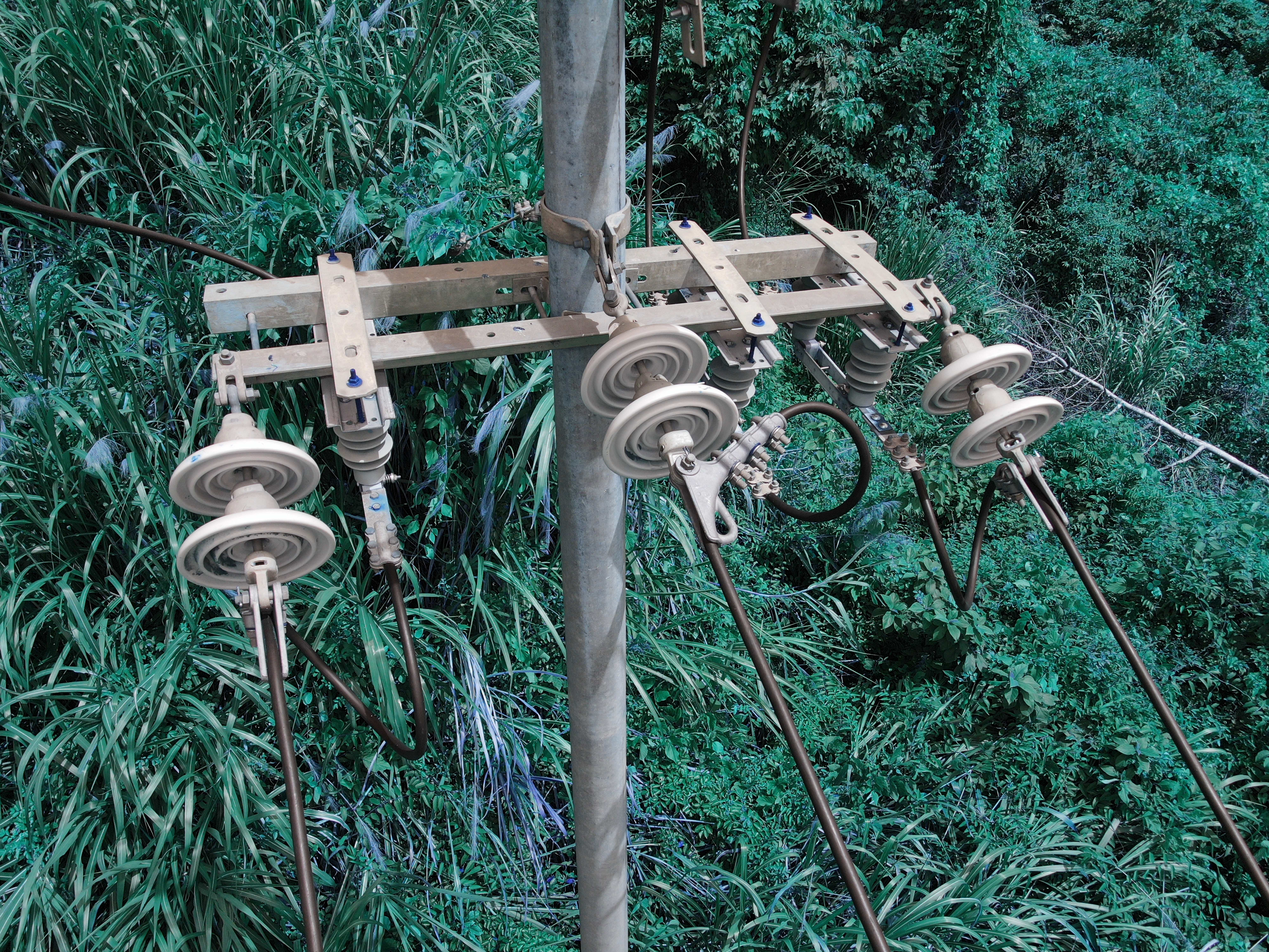severe_soiling_no_discharge_whole: (164, 409, 342, 598)
